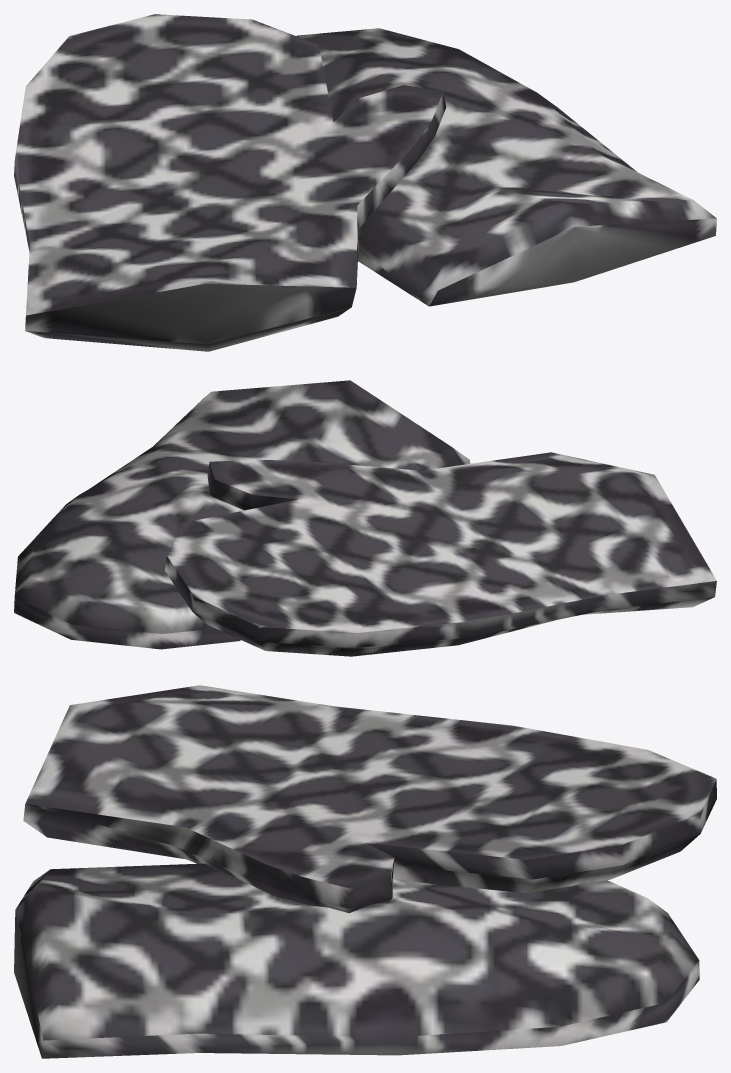
File: SapphMittens.fbx
3 views of the same model, one above another, from view 1: azimuth 30°, elevation 25°; view 2: azimuth 150°, elevation 25°; view 3: azimuth 270°, elevation 25° (orthographic). The views are drawn at different scales.
Parts seen in each view (by area): view 1: OvenMitt; view 2: OvenMitt; view 3: OvenMitt.
Boxes of the visible parts, <box> form: OvenMitt: <box>14,14,716,351</box>; OvenMitt: <box>14,380,716,656</box>; OvenMitt: <box>14,685,716,1058</box>.
Bounding box in the file's own units: 60.07 × 9.2 × 51.05.
